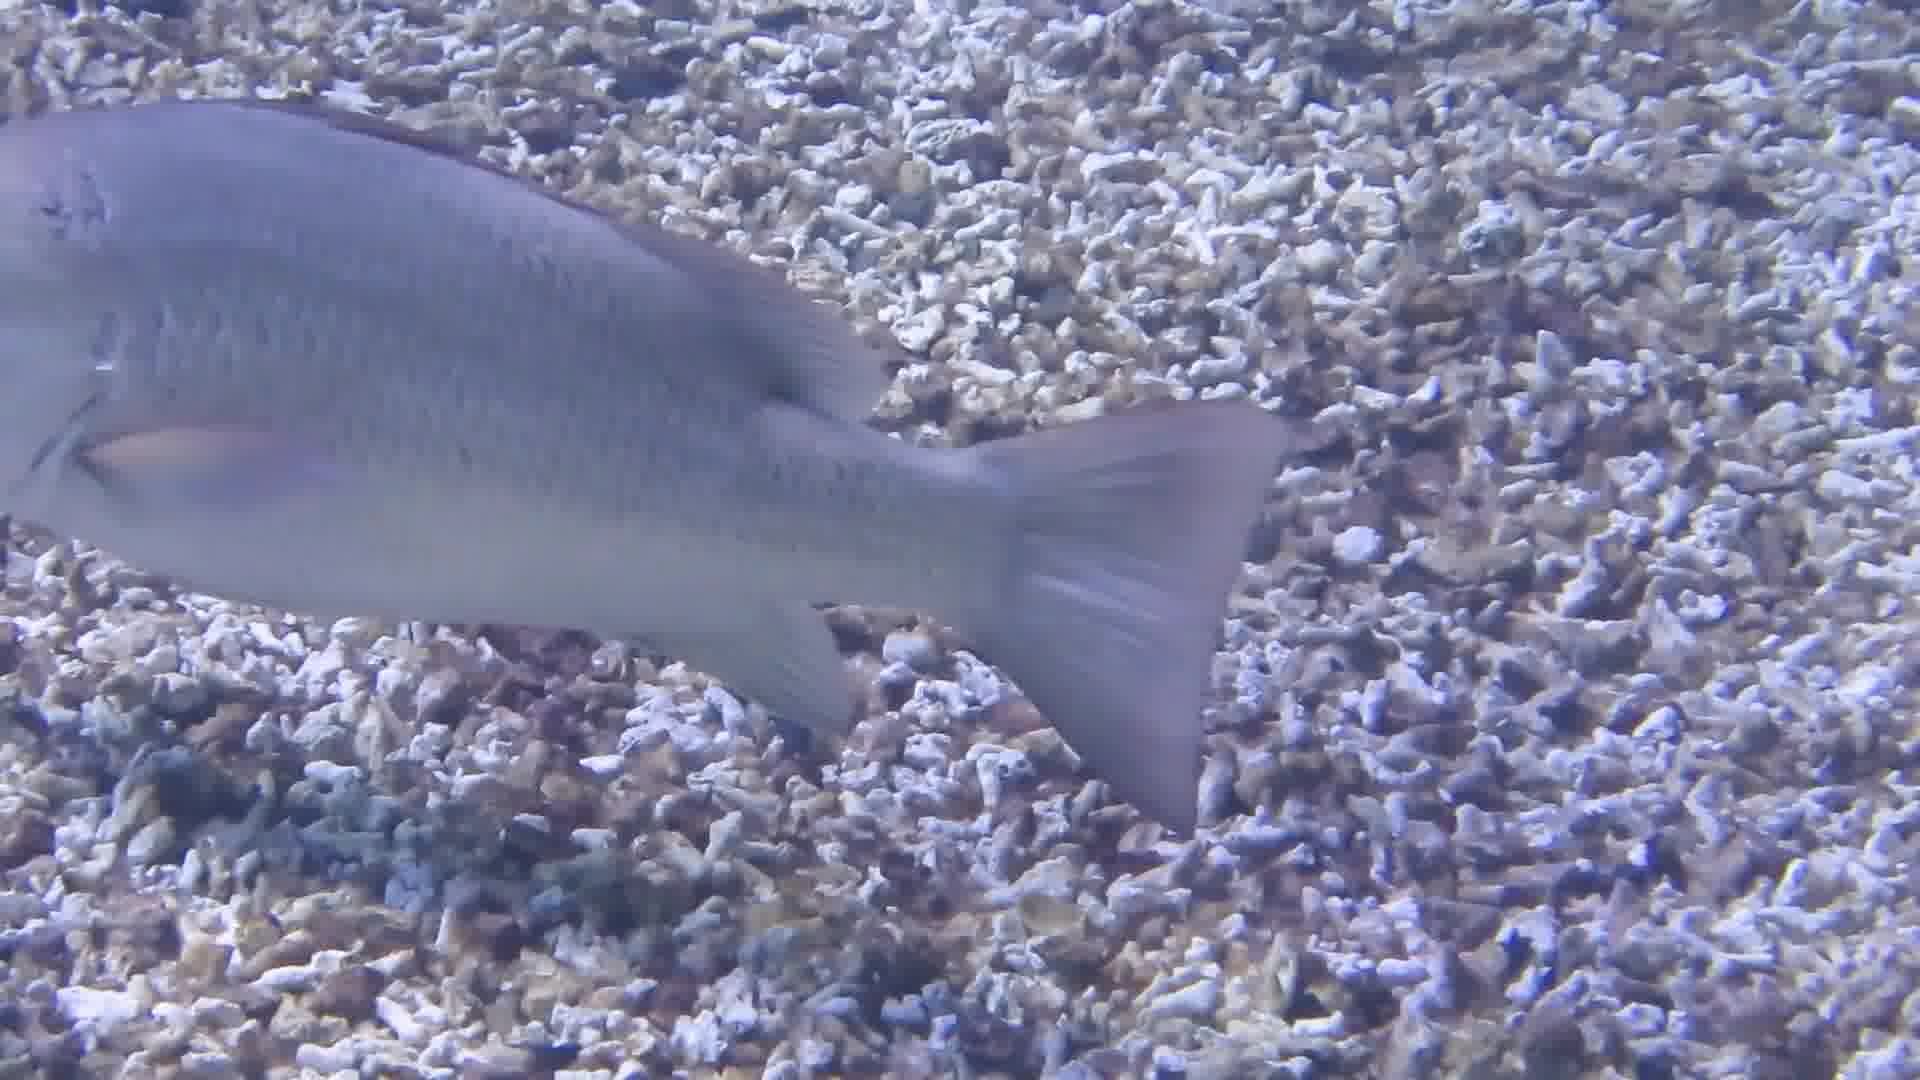Lutjanus argentimaculatus: (1, 107, 1004, 694)
